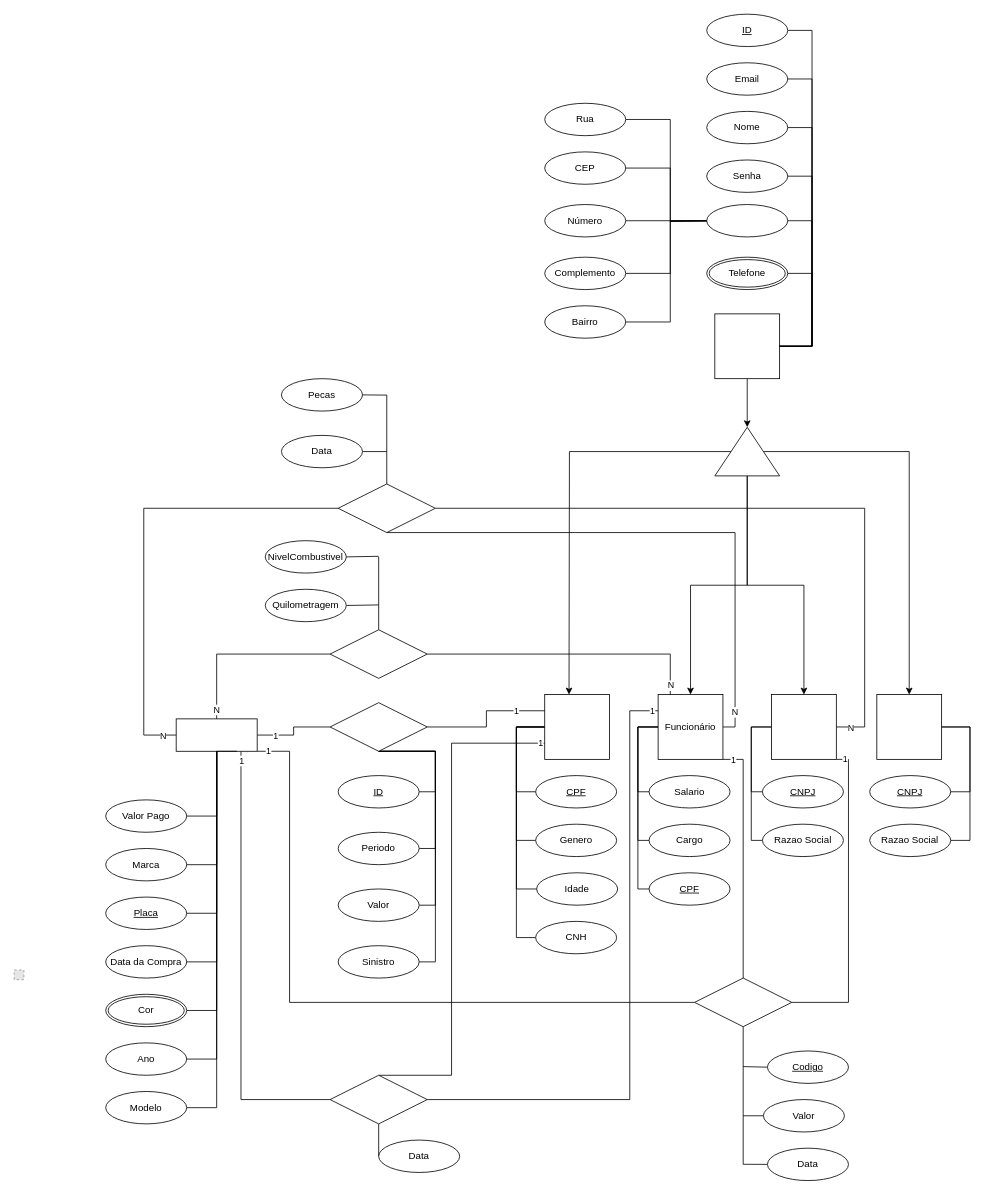
This 985x1195 diagram has some shape labels left out. Grey dashed boxes stand in for pictures. The centre of each missing label's shape, as x and y in pixels:
"aluga" belongs at [378,726].
"Cliente" belongs at [577,726].
"devolve" belongs at [378,1099].
"Endereço" belongs at [747,220].
"faz manutenção" belongs at [386,508].
"faz vistoria" belongs at [378,653].
"Fornecedor" belongs at [909,726].
"Terceiro" belongs at [803,726].
"Usuário" belongs at [747,346].
"vende" belongs at [743,1002].
"Veículo" belongs at [216,734].
